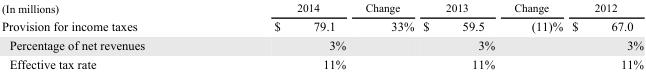table: (1, 0, 643, 70)
table column: (1, 0, 208, 70), (208, 0, 355, 70), (417, 0, 503, 70), (566, 0, 643, 70), (503, 0, 566, 70), (355, 0, 417, 70)
table column header: (1, 0, 643, 16)
table row: (1, 16, 643, 35), (1, 35, 643, 54), (1, 0, 643, 16), (1, 54, 643, 70)
